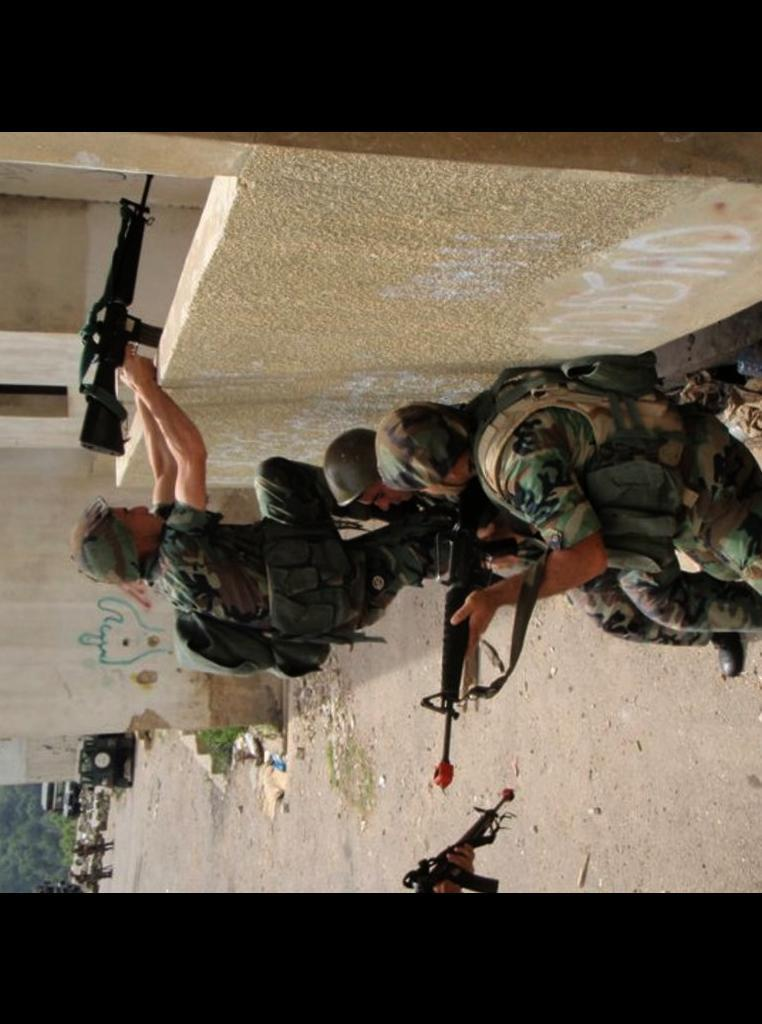gun: (60, 180, 188, 462), (425, 493, 525, 805), (402, 798, 543, 888)
